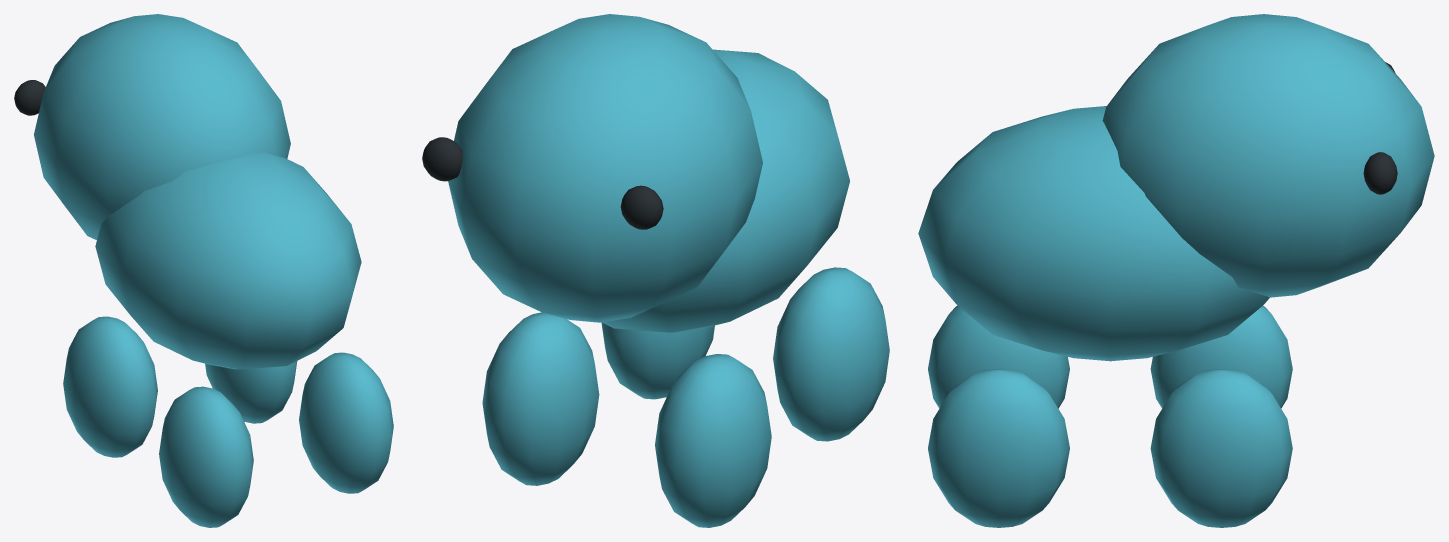
Rendered from animal_frog.glb.
3 views of the same model, side by side, from view 1: azimuth 30°, elevation 25°; view 2: azimuth 150°, elevation 25°; view 3: azimuth 270°, elevation 25° (orthographic). The views are drawn at different scales.
Parts seen in each view (by area): view 1: Body, LegFL, LegBR, LegBL, LegFR; view 2: Body, LegBL, LegFL, LegFR, LegBR; view 3: Body, LegFR, LegBR, LegBL, LegFL.
Boxes of the visible parts, x1,y1,x2,y2 form: Body: (14,14,361,369); LegFL: (63,316,157,457); LegBR: (299,352,393,493); LegBL: (159,386,253,527); LegFR: (205,361,297,423); Body: (422,14,849,332); LegBL: (773,267,889,441); LegFL: (655,354,771,527); LegFR: (482,312,599,485); LegBR: (601,322,714,399); Body: (918,14,1434,361); LegFR: (1150,369,1292,527); LegBR: (928,369,1069,527); LegBL: (928,305,1069,408); LegFL: (1150,305,1292,408).
Bounding box in the file's own units: 0.202 × 0.356 × 0.363.
